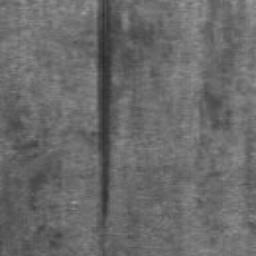Scratches: (97, 0, 116, 228)
